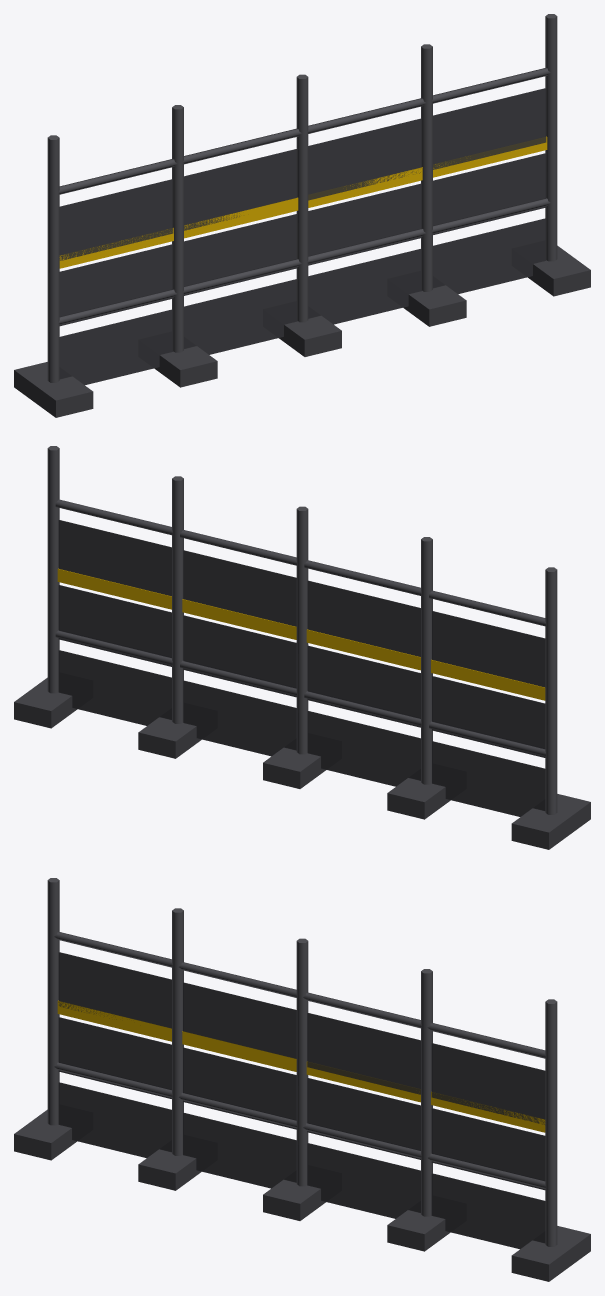
File: temp_fencing.obj
The picture shows the model from 3 angles, top to bottom: view 1: azimuth 30°, elevation 25°; view 2: azimuth 150°, elevation 25°; view 3: azimuth 330°, elevation 25°; orthographic projection.
Visible parts, largest first — view 1: box_14, box_23, box_20, box_12, box_17, box_18, box_21, box_15, box_13, box_19, box_22, box_16 (+16 smaller); view 2: box_18, box_12, box_21, box_15, box_20, box_14, box_17, box_23, box_19, box_22, box_16, box_13 (+16 smaller); view 3: box_23, box_20, box_21, box_15, box_12, box_18, box_14, box_17, box_22, box_16, box_13, box_19 (+16 smaller).
Boxes of the visible parts, box(x1,y1,x2,y2) form: box_14: box(59, 179, 173, 260); box_23: box(433, 88, 546, 169); box_20: box(308, 118, 421, 200); box_12: box(59, 309, 173, 385); box_17: box(184, 149, 297, 230); box_18: box(308, 248, 421, 324); box_21: box(433, 218, 546, 294); box_15: box(184, 279, 297, 354); box_13: box(59, 244, 173, 326); box_19: box(308, 183, 421, 265); box_22: box(433, 153, 546, 234); box_16: box(184, 214, 297, 295); box_18: box(183, 680, 296, 756); box_12: box(432, 741, 545, 816); box_21: box(58, 650, 171, 725); box_15: box(307, 711, 420, 786); box_20: box(183, 550, 296, 626); box_14: box(432, 611, 545, 687); box_17: box(307, 580, 420, 656); box_23: box(58, 520, 171, 596); box_19: box(183, 615, 296, 697); box_22: box(58, 585, 171, 666); box_16: box(307, 645, 420, 727); box_13: box(432, 676, 545, 757); box_23: box(431, 1043, 545, 1124); box_20: box(307, 1013, 420, 1094); box_21: box(431, 1173, 545, 1249); box_15: box(183, 1112, 296, 1188); box_12: box(58, 1082, 171, 1158); box_18: box(307, 1143, 420, 1218); box_14: box(58, 952, 171, 1028); box_17: box(183, 982, 296, 1058); box_22: box(431, 1108, 545, 1190); box_16: box(183, 1047, 296, 1129); box_13: box(58, 1017, 171, 1098); box_19: box(307, 1078, 420, 1159).
Size of the model in its own units: 2.58 by 1.2 by 0.35.
